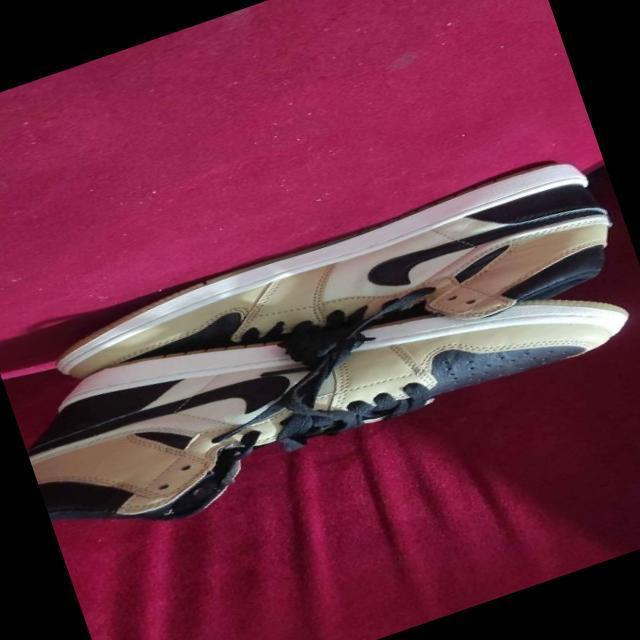nike fake jordan 1: (8, 197, 640, 560), (40, 148, 636, 481)
